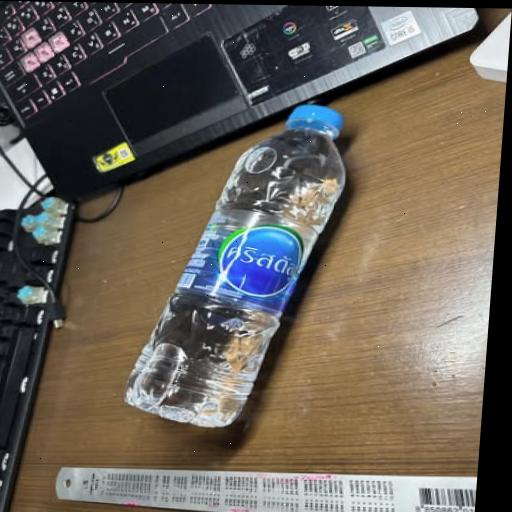ba: (72, 86, 388, 448)
